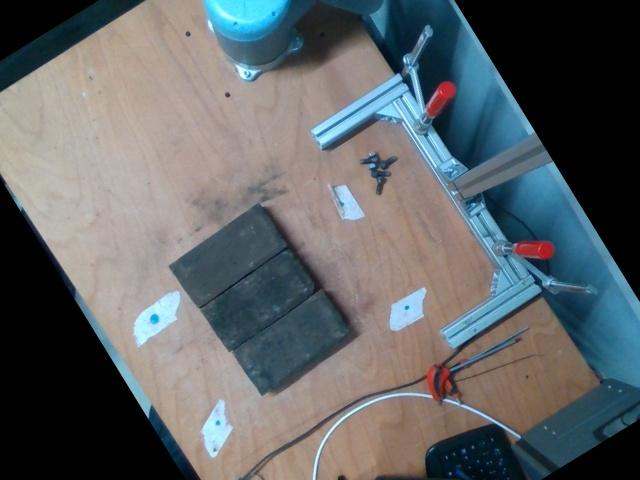brick: (199, 246, 319, 353), (167, 203, 287, 309), (231, 290, 351, 396)
